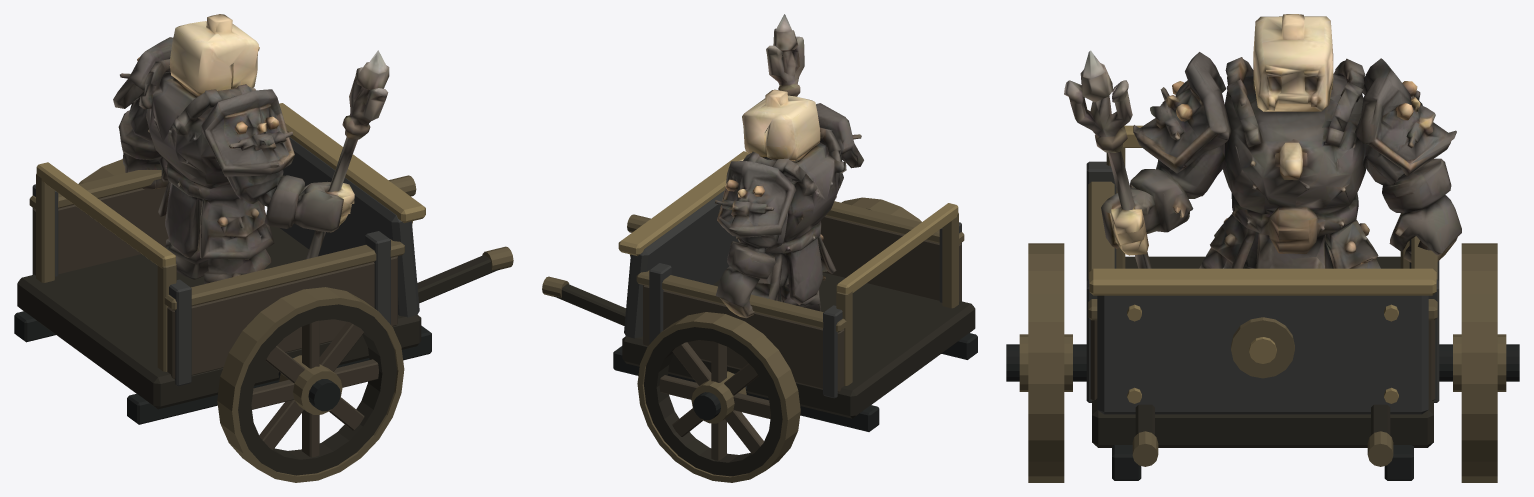
The model's file is chariot.glb.
3 views of the same model, side by side, from view 1: azimuth 30°, elevation 25°; view 2: azimuth 150°, elevation 25°; view 3: azimuth 270°, elevation 25° (orthographic). The views are drawn at different scales.
Parts seen in each view (by area): view 1: chariot-readable-standard; view 2: chariot-readable-standard; view 3: chariot-readable-standard.
Boxes of the visible parts, x1,y1,x2,y2 form: chariot-readable-standard: (14, 14, 513, 482); chariot-readable-standard: (542, 14, 977, 482); chariot-readable-standard: (1006, 14, 1519, 482).
Size of the model in its own units: 1 by 0.9751 by 0.96.
1 material, 1 textured.
